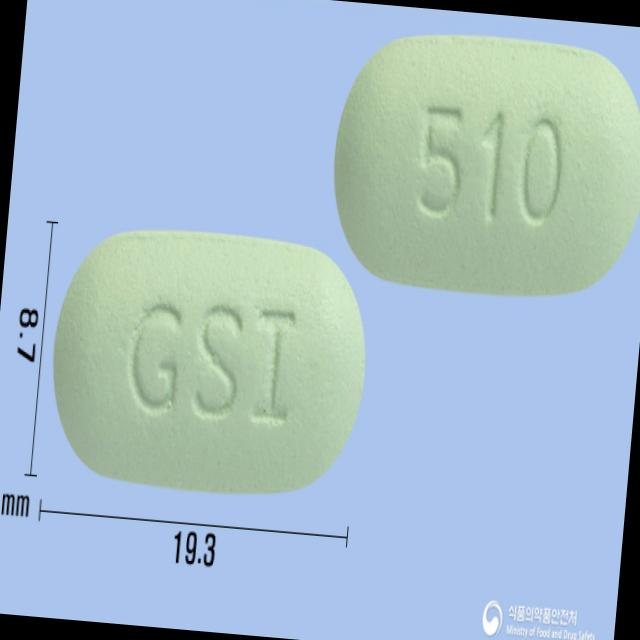Genvoya: (40, 218, 377, 508), (321, 23, 640, 306)
